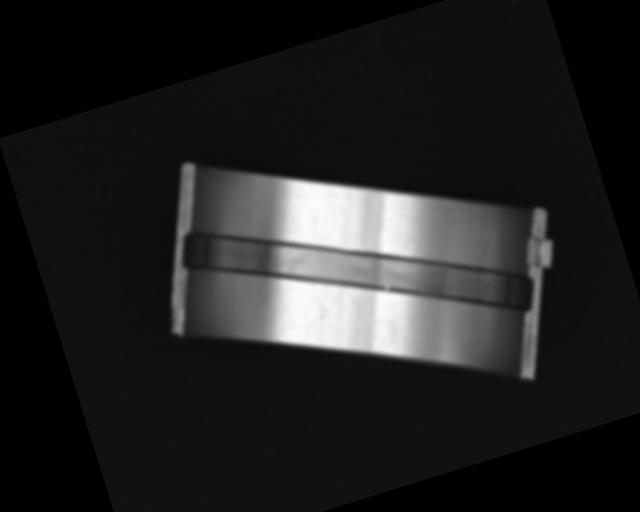gap: (173, 138, 540, 403)
